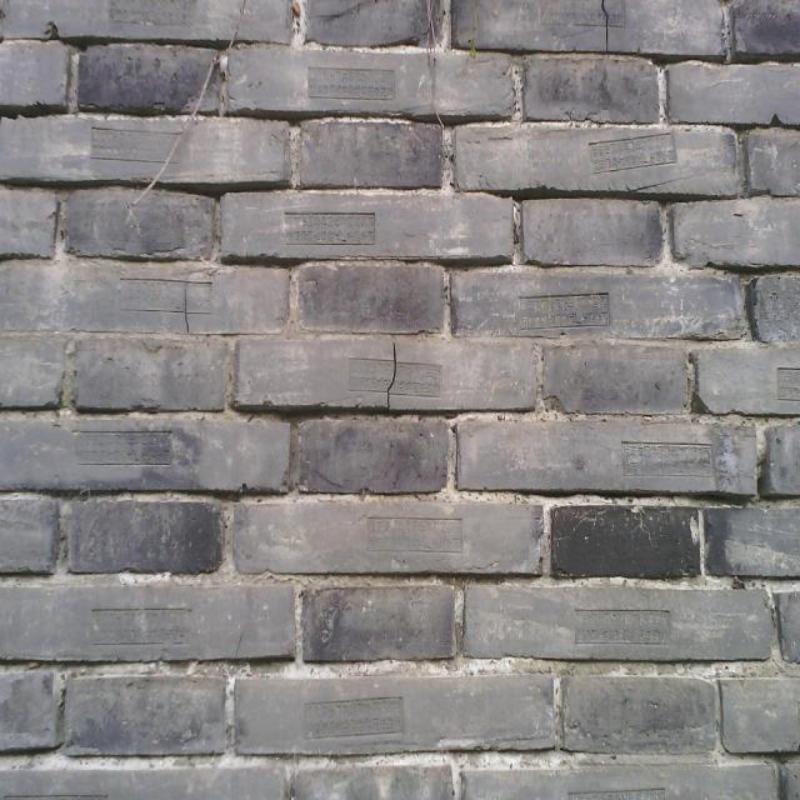crack: (387, 342, 397, 407), (601, 1, 609, 52), (234, 632, 244, 659), (185, 288, 189, 333)
